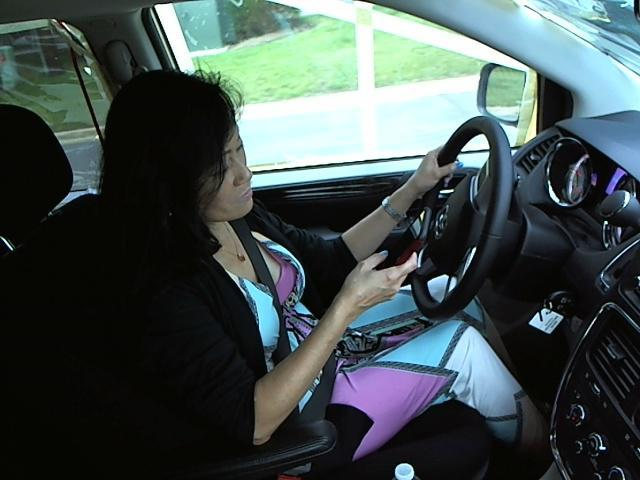PhoneUse: (376, 203, 436, 289)
